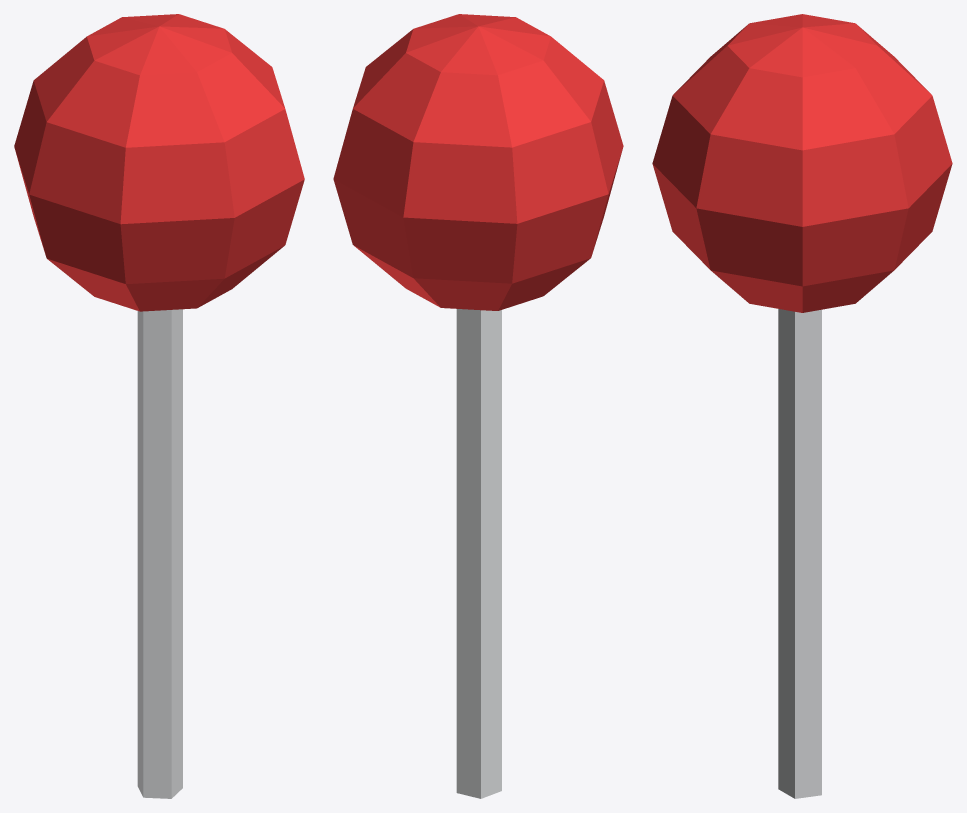
Rendered from candy_pop.glb.
The picture shows the model from 3 angles, left to right: view 1: azimuth 30°, elevation 25°; view 2: azimuth 150°, elevation 25°; view 3: azimuth 270°, elevation 25°; orthographic projection.
Parts seen in each view (by area): view 1: candy, stick_dental_white; view 2: candy, stick_dental_white; view 3: candy, stick_dental_white.
Part boxes in pixels (x1,y1,x2,y2): candy: [14, 14, 304, 311]; stick_dental_white: [137, 309, 182, 798]; candy: [333, 14, 623, 310]; stick_dental_white: [456, 309, 501, 798]; candy: [652, 14, 952, 312]; stick_dental_white: [778, 309, 821, 798].
Bounding box in the file's own units: 0.05 × 0.14 × 0.05.
